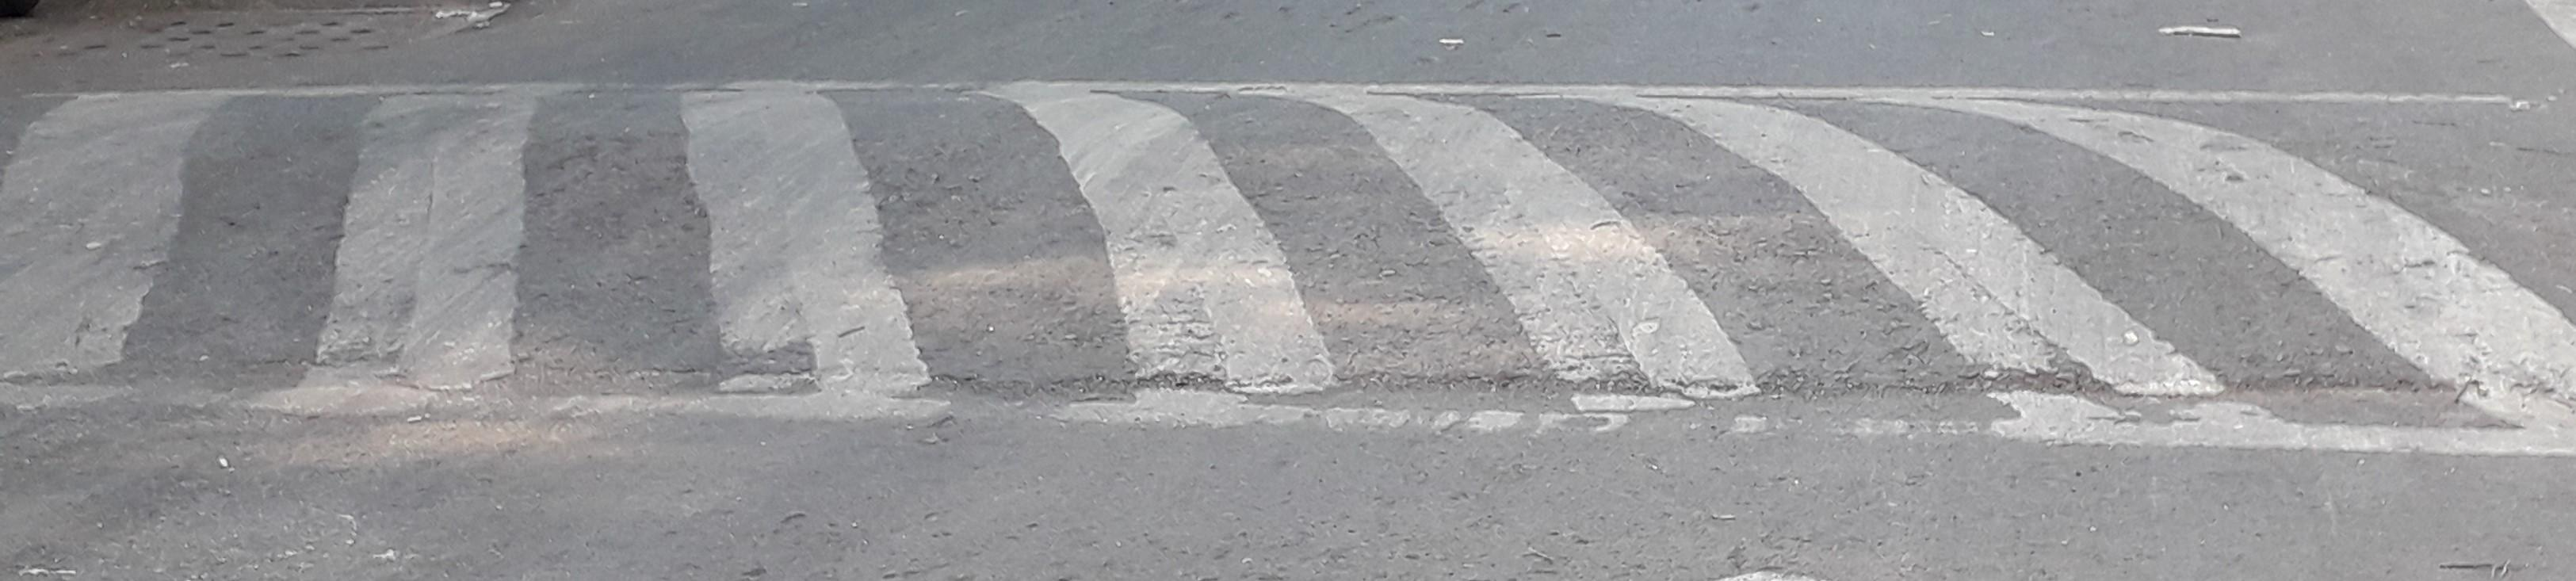speed-bump: (5, 72, 2576, 405)
